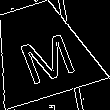M_N: (7, 19, 74, 82)
